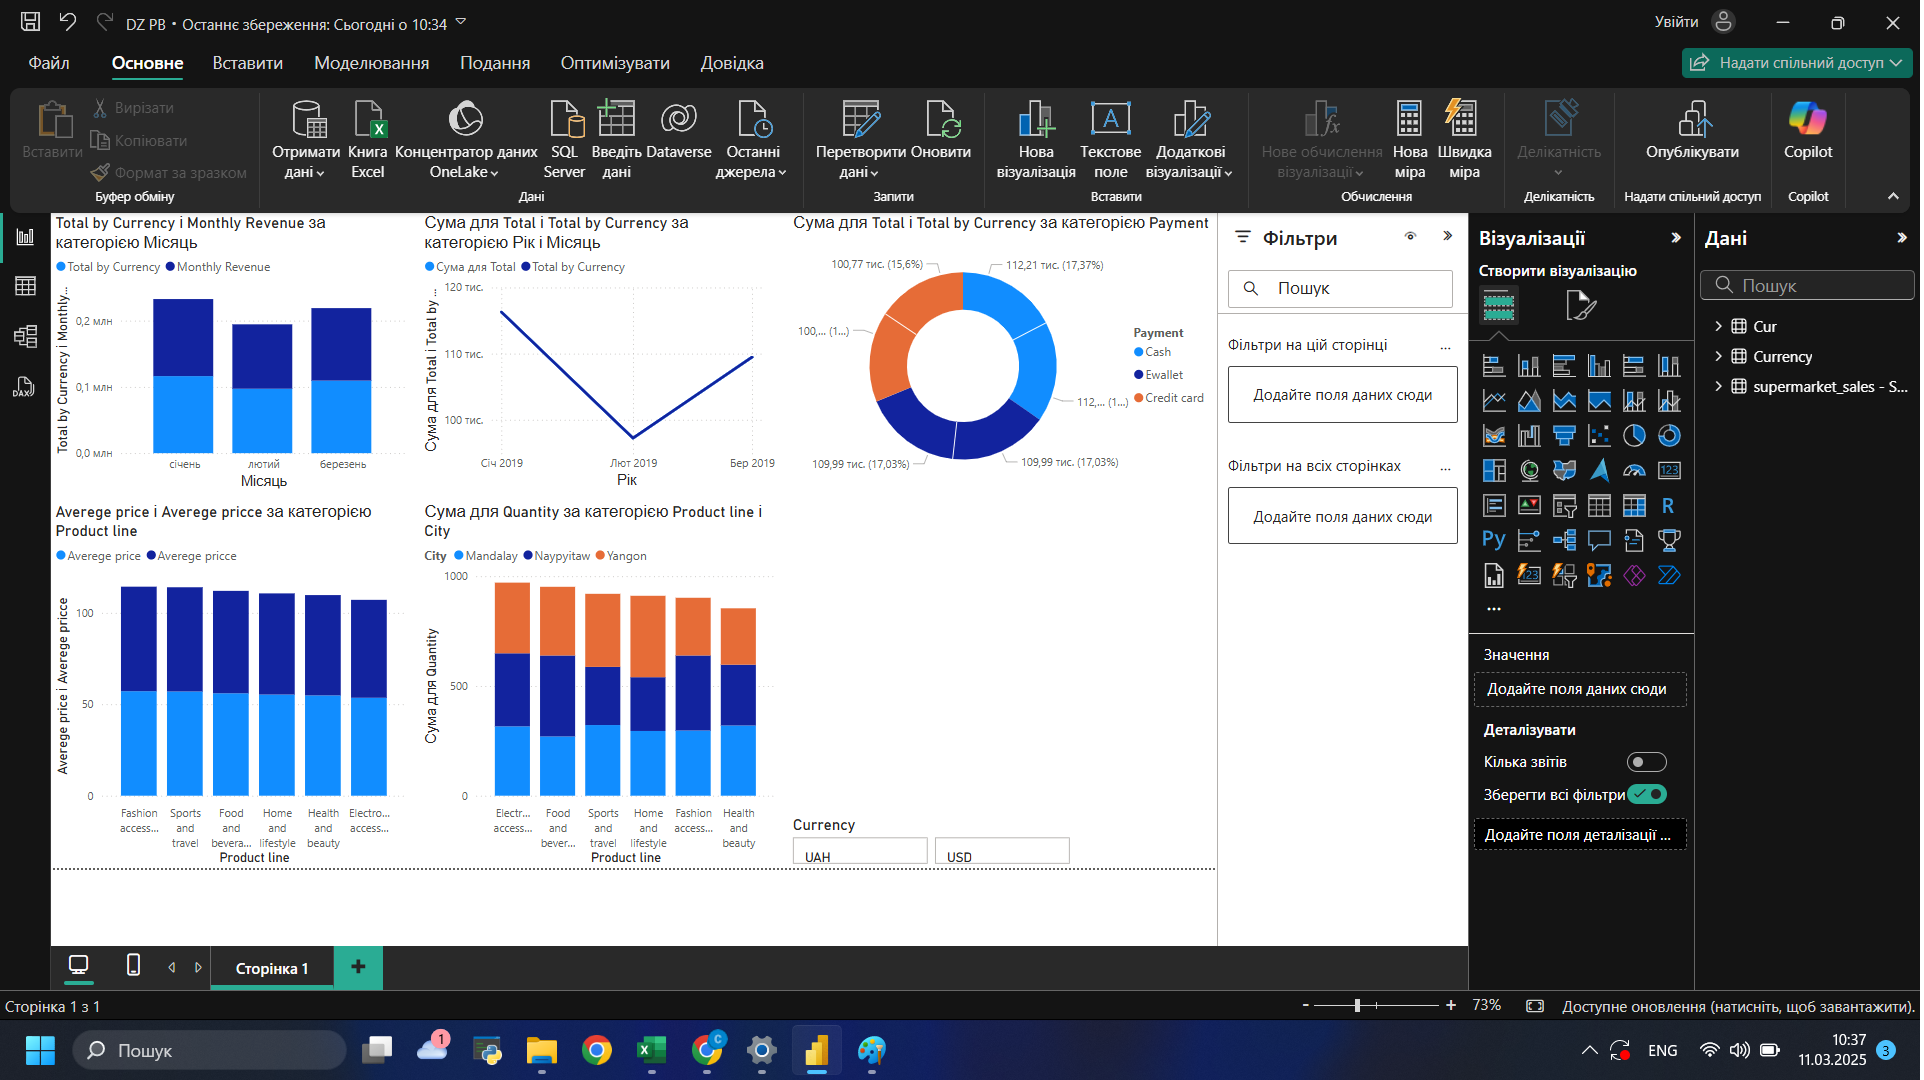

The page's visual inventory and layout, read from the dashboard file:
{"tool":"powerbi","page":{"name":"Сторінка 1","canvas":[1280,720],"ordinal":0},"visuals":[{"type":"lineStackedColumnComboChart","fields":{"Y":["supermarket_sales - Sheet1 (1).Total by Currency","supermarket_sales - Sheet1 (1).Monthly Revenue"],"Category":["supermarket_sales - Sheet1 (1).Date.Варіація.Ієрархія дат.Місяць"]},"box":[0,0,395.2,307.4],"z":0},{"type":"columnChart","fields":{"Y":["supermarket_sales - Sheet1 (1).Averege price","supermarket_sales - Sheet1 (1).Averege pricce"],"Category":["supermarket_sales - Sheet1 (1).Product line"]},"box":[0,317,395.2,403.4],"z":1000},{"type":"lineChart","fields":{"Category":["supermarket_sales - Sheet1 (1).Date.Варіація.Ієрархія дат.Рік","supermarket_sales - Sheet1 (1).Date.Варіація.Ієрархія дат.Місяць"],"Y":["Sum(supermarket_sales - Sheet1 (1).Total)","supermarket_sales - Sheet1 (1).Total by Currency"]},"box":[405,0,395,307],"z":2000},{"type":"columnChart","fields":{"Category":["supermarket_sales - Sheet1 (1).Product line"],"Y":["Sum(supermarket_sales - Sheet1 (1).Quantity)"],"Series":["supermarket_sales - Sheet1 (1).City"]},"box":[404.8,317,395.2,403.4],"z":3000},{"type":"donutChart","fields":{"Category":["supermarket_sales - Sheet1 (1).Payment"],"Y":["Sum(supermarket_sales - Sheet1 (1).Total)","supermarket_sales - Sheet1 (1).Total by Currency"]},"box":[809.6,0,470.7,317],"z":4000},{"type":"advancedSlicerVisual","fields":{"Values":["Currency.Currency"]},"box":[809.6,661.4,470.7,59],"z":5000}]}

Visuals, with their boxes on the page's 1280x720 design canvas (x1, y1, x2, y2). These are canvas units, not pixel positions in the 1924x1080 screenshot, which may show the page scaled, cropped or inside an application window:
lineStackedColumnComboChart - supermarket_sales - Sheet1 (1).Total by Currency x supermarket_sales - Sheet1 (1).Monthly Revenue: x1=0, y1=0, x2=395, y2=307
columnChart - supermarket_sales - Sheet1 (1).Averege price x supermarket_sales - Sheet1 (1).Averege pricce: x1=0, y1=317, x2=395, y2=720
lineChart - supermarket_sales - Sheet1 (1).Date.Варіація.Ієрархія дат.Рік x supermarket_sales - Sheet1 (1).Date.Варіація.Ієрархія дат.Місяць: x1=405, y1=0, x2=800, y2=307
columnChart - supermarket_sales - Sheet1 (1).Product line x Sum(supermarket_sales - Sheet1 (1).Quantity): x1=405, y1=317, x2=800, y2=720
donutChart - supermarket_sales - Sheet1 (1).Payment x Sum(supermarket_sales - Sheet1 (1).Total): x1=810, y1=0, x2=1280, y2=317
advancedSlicerVisual - Currency.Currency: x1=810, y1=661, x2=1280, y2=720
